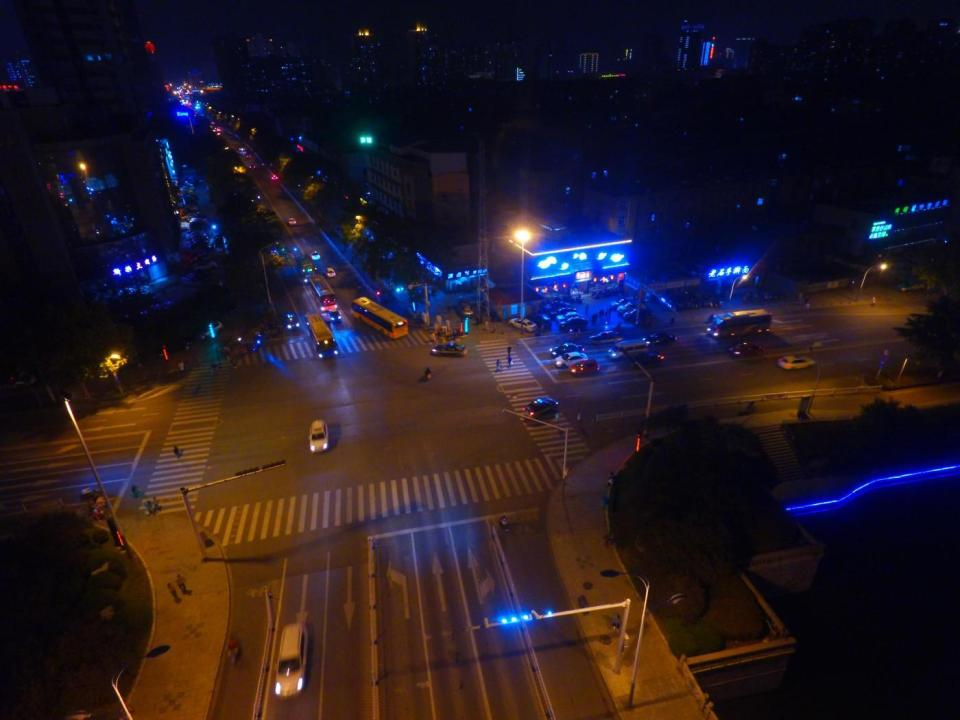bus: (350, 298, 408, 340), (706, 308, 772, 338), (304, 314, 338, 361), (309, 276, 338, 313), (295, 253, 317, 283)
car: (274, 624, 307, 701), (523, 396, 558, 420), (197, 318, 223, 342), (310, 421, 328, 455), (430, 340, 466, 356), (777, 355, 815, 370), (549, 344, 584, 359), (729, 343, 764, 358), (631, 352, 665, 367), (554, 354, 587, 369), (568, 362, 599, 377), (642, 334, 675, 348), (590, 331, 623, 344), (625, 310, 654, 324), (508, 318, 535, 333), (616, 302, 646, 315), (544, 300, 570, 314), (611, 297, 638, 310), (532, 311, 550, 330), (556, 311, 584, 323), (551, 307, 577, 318), (284, 314, 300, 330), (326, 311, 343, 325), (308, 250, 321, 262), (326, 267, 336, 278), (287, 217, 297, 227), (271, 174, 278, 181), (245, 154, 251, 160), (250, 165, 255, 170), (240, 150, 245, 155)
van: (608, 339, 648, 358), (457, 296, 473, 318)
